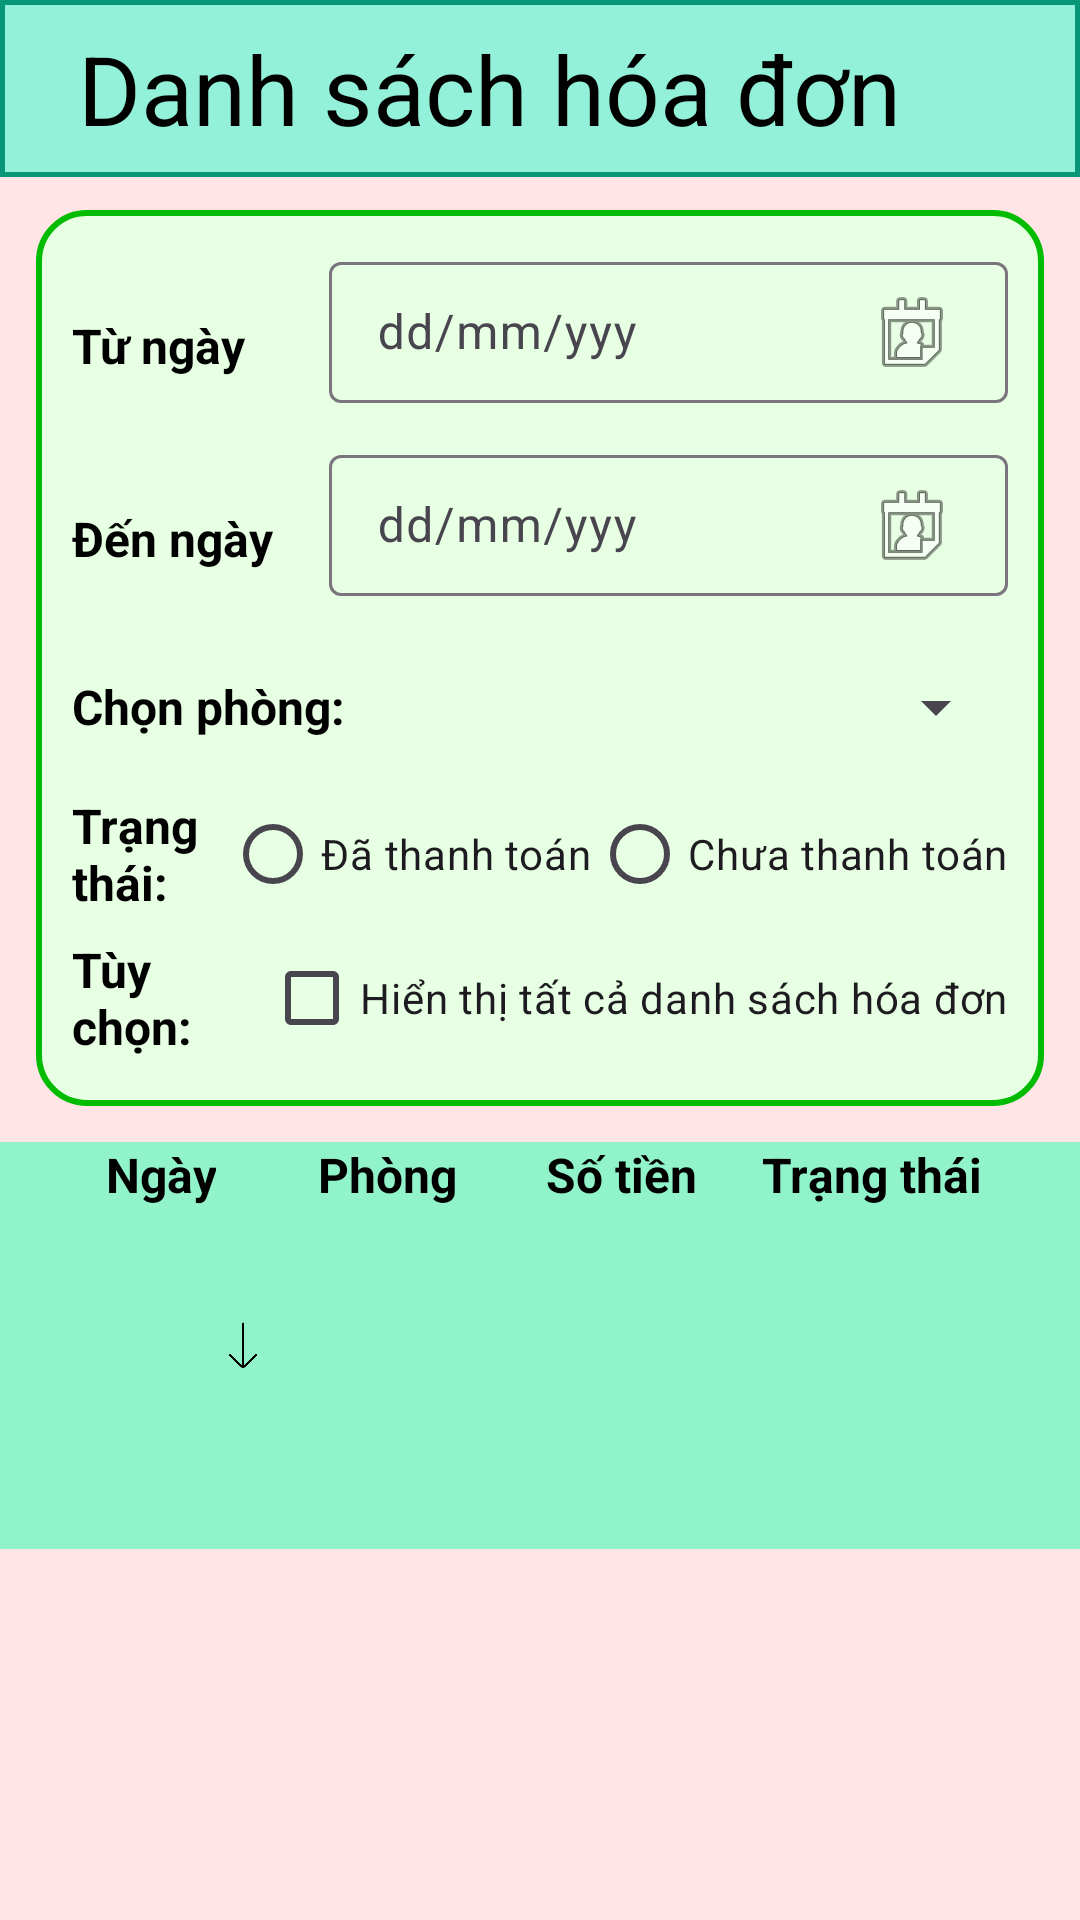

Icon bounding boxes for this 1080*1920 phone screenshot, format detection(x1, y1, x2, y2):
arrow down: detection(229, 1322, 257, 1368)
